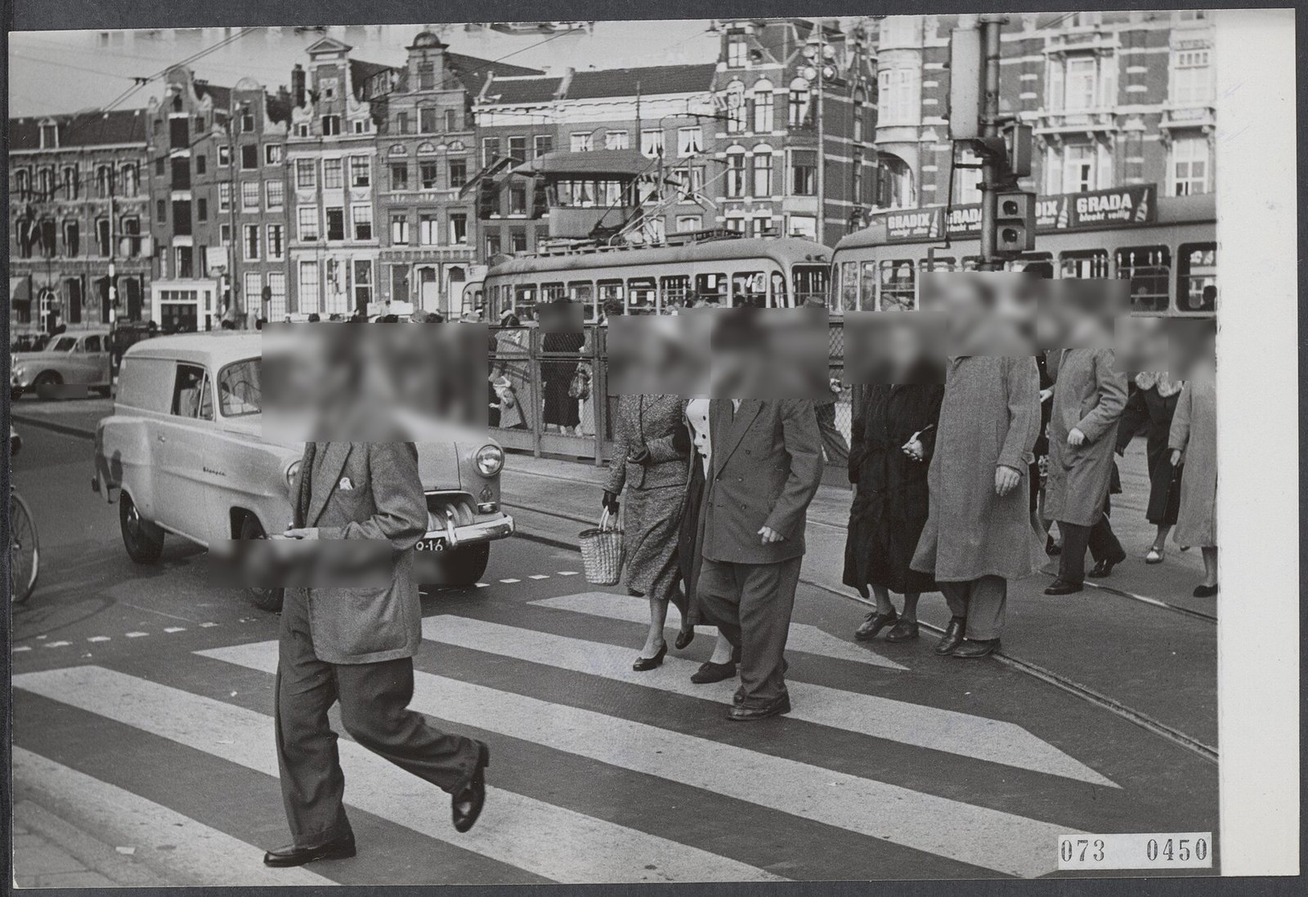bicycle: (8, 484, 42, 607)
car: (92, 332, 509, 598), (377, 403, 511, 592), (11, 325, 118, 401)
person: (262, 323, 489, 866), (678, 308, 829, 724), (919, 272, 1043, 659), (608, 316, 711, 677), (844, 312, 947, 643), (1038, 279, 1131, 596), (1115, 318, 1194, 565), (1169, 321, 1216, 596), (539, 303, 584, 440)
